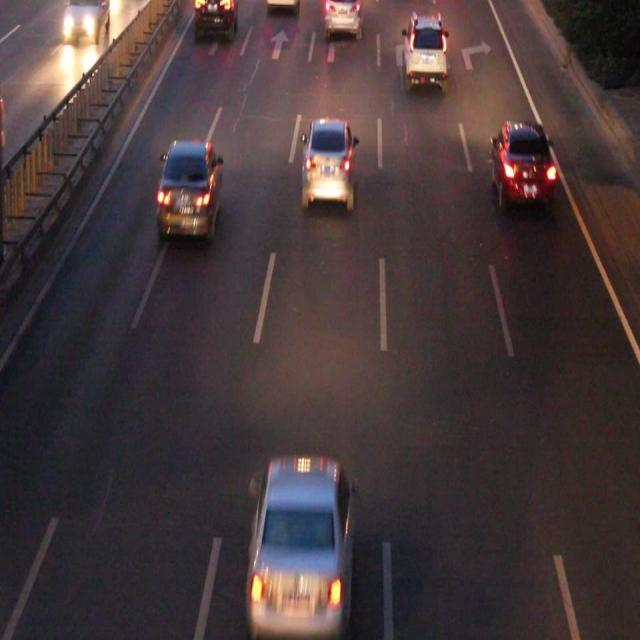car: (248, 461, 352, 614), (158, 142, 221, 234), (492, 123, 551, 203), (302, 124, 352, 203), (402, 17, 445, 84), (194, 2, 236, 34), (324, 1, 362, 32)
